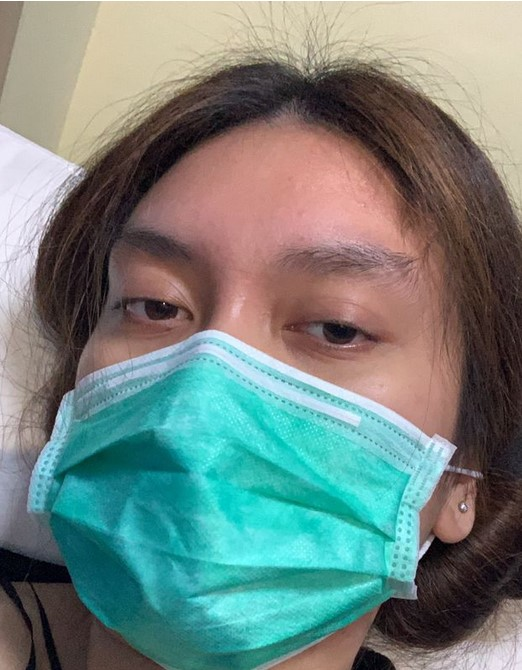face_with_mask: (33, 73, 502, 669)
